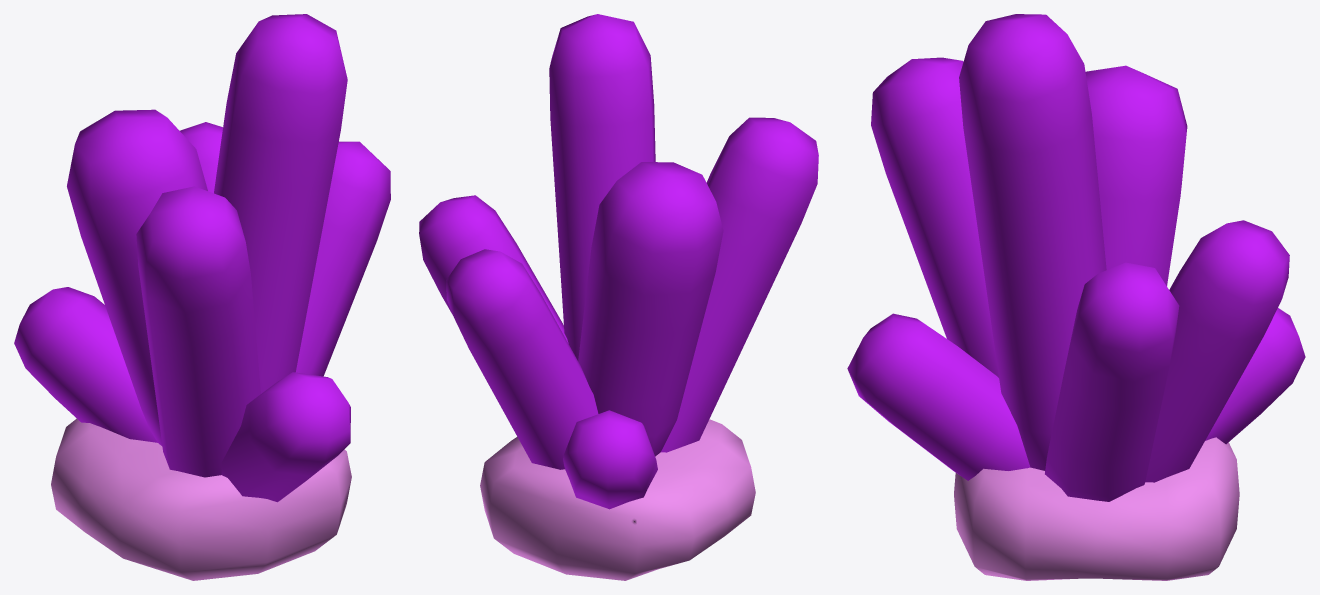
Rendered from RivernemPURPLE.fbx.
3 renders of one model, left to right at view 1: azimuth 30°, elevation 25°; view 2: azimuth 150°, elevation 25°; view 3: azimuth 270°, elevation 25°, orthographic. The views are drawn at different scales.
Visible parts, largest first — view 1: Cube; view 2: Cube; view 3: Cube.
Part boxes in pixels (x1=…): Cube: x1=14, y1=14, x2=390, y2=580; Cube: x1=419, y1=14, x2=818, y2=580; Cube: x1=847, y1=14, x2=1305, y2=580.
Size of the model in its own units: 22.94 by 34.72 by 25.79.
